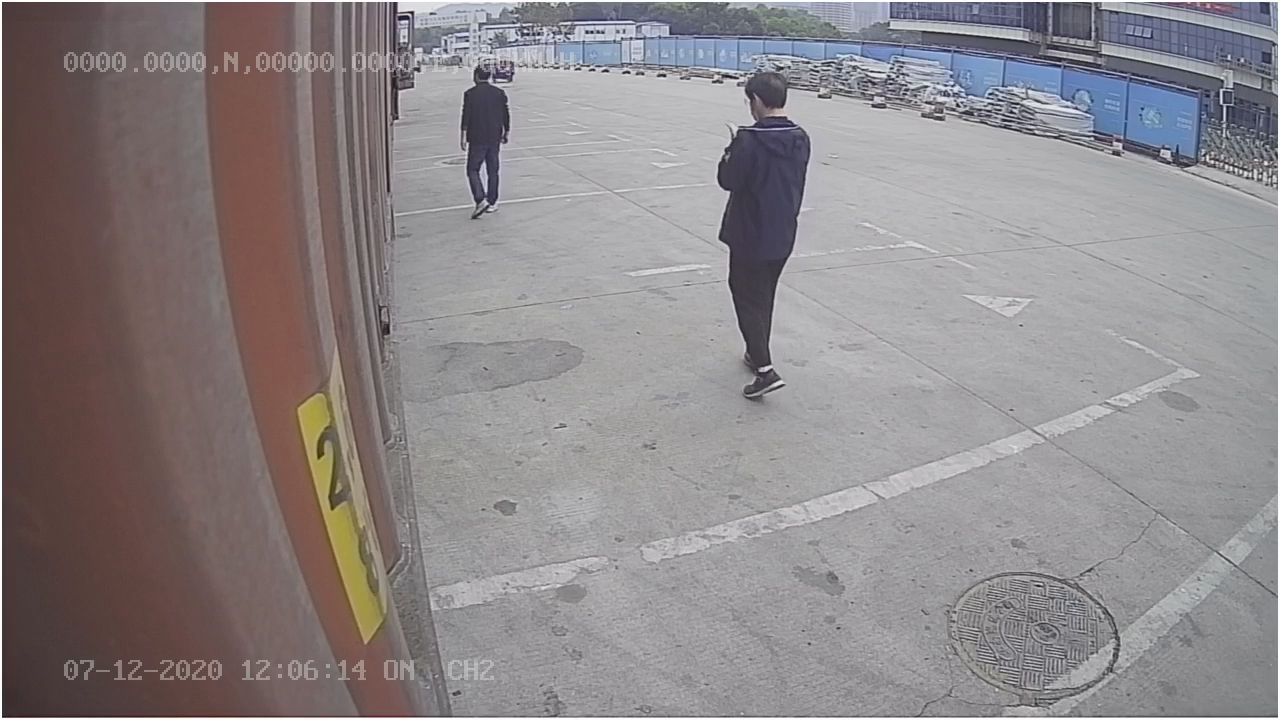person: (715, 65, 814, 400)
